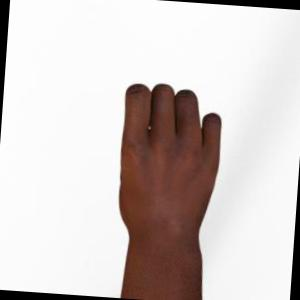rock: (120, 84, 220, 300)
